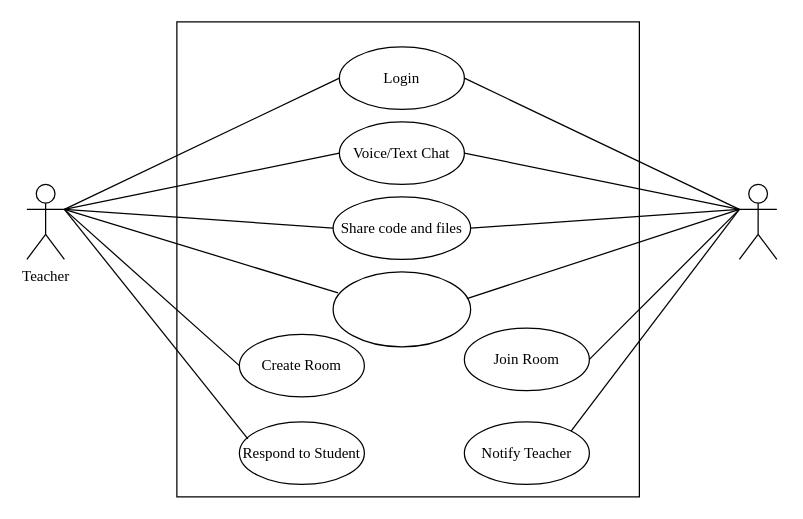
The diagram is 803 pixels wide and 519 high, and some of its shapes have lost their labels. The shapes that lost their labels are listed below. From the top down, each one's centre as x and y in pixels, then its label:
At (757,221): "Student".
At (401,309): "Modify and execute code".
